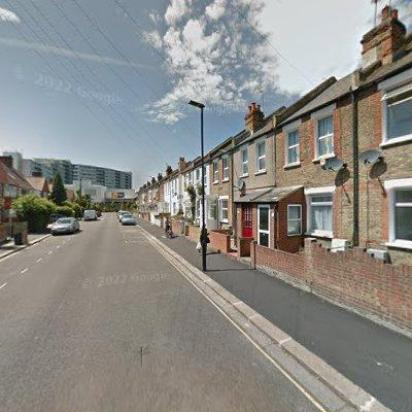stationary-bicycle-onstreet: (164, 223, 174, 238)
stationary-car-onstreet: (51, 216, 80, 236), (120, 213, 138, 225)
stationary-light-truck-onstreet: (84, 210, 96, 222), (118, 211, 128, 221)
